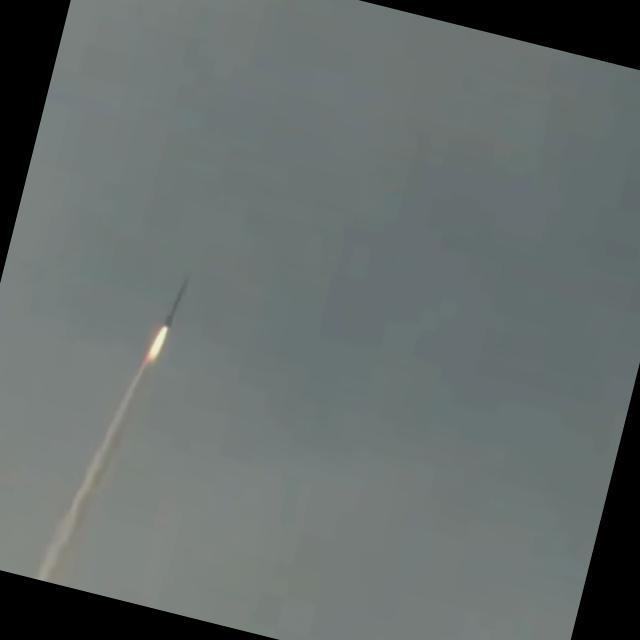rocket: (144, 276, 192, 369)
smoke_trail_with_rocket: (31, 278, 186, 583)
